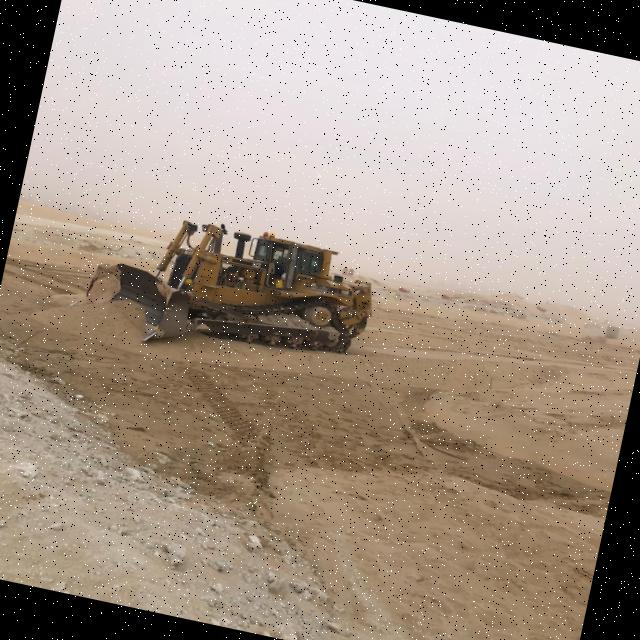Bulldozer: (71, 188, 386, 400)
